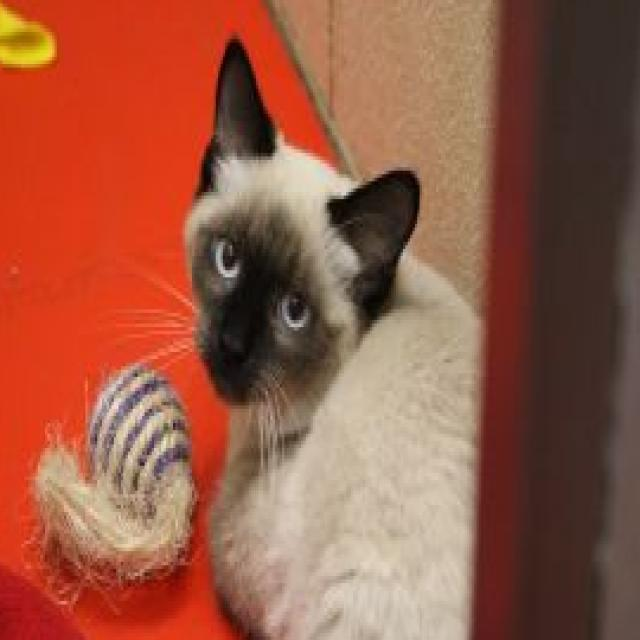Siamese: (180, 35, 486, 640)
